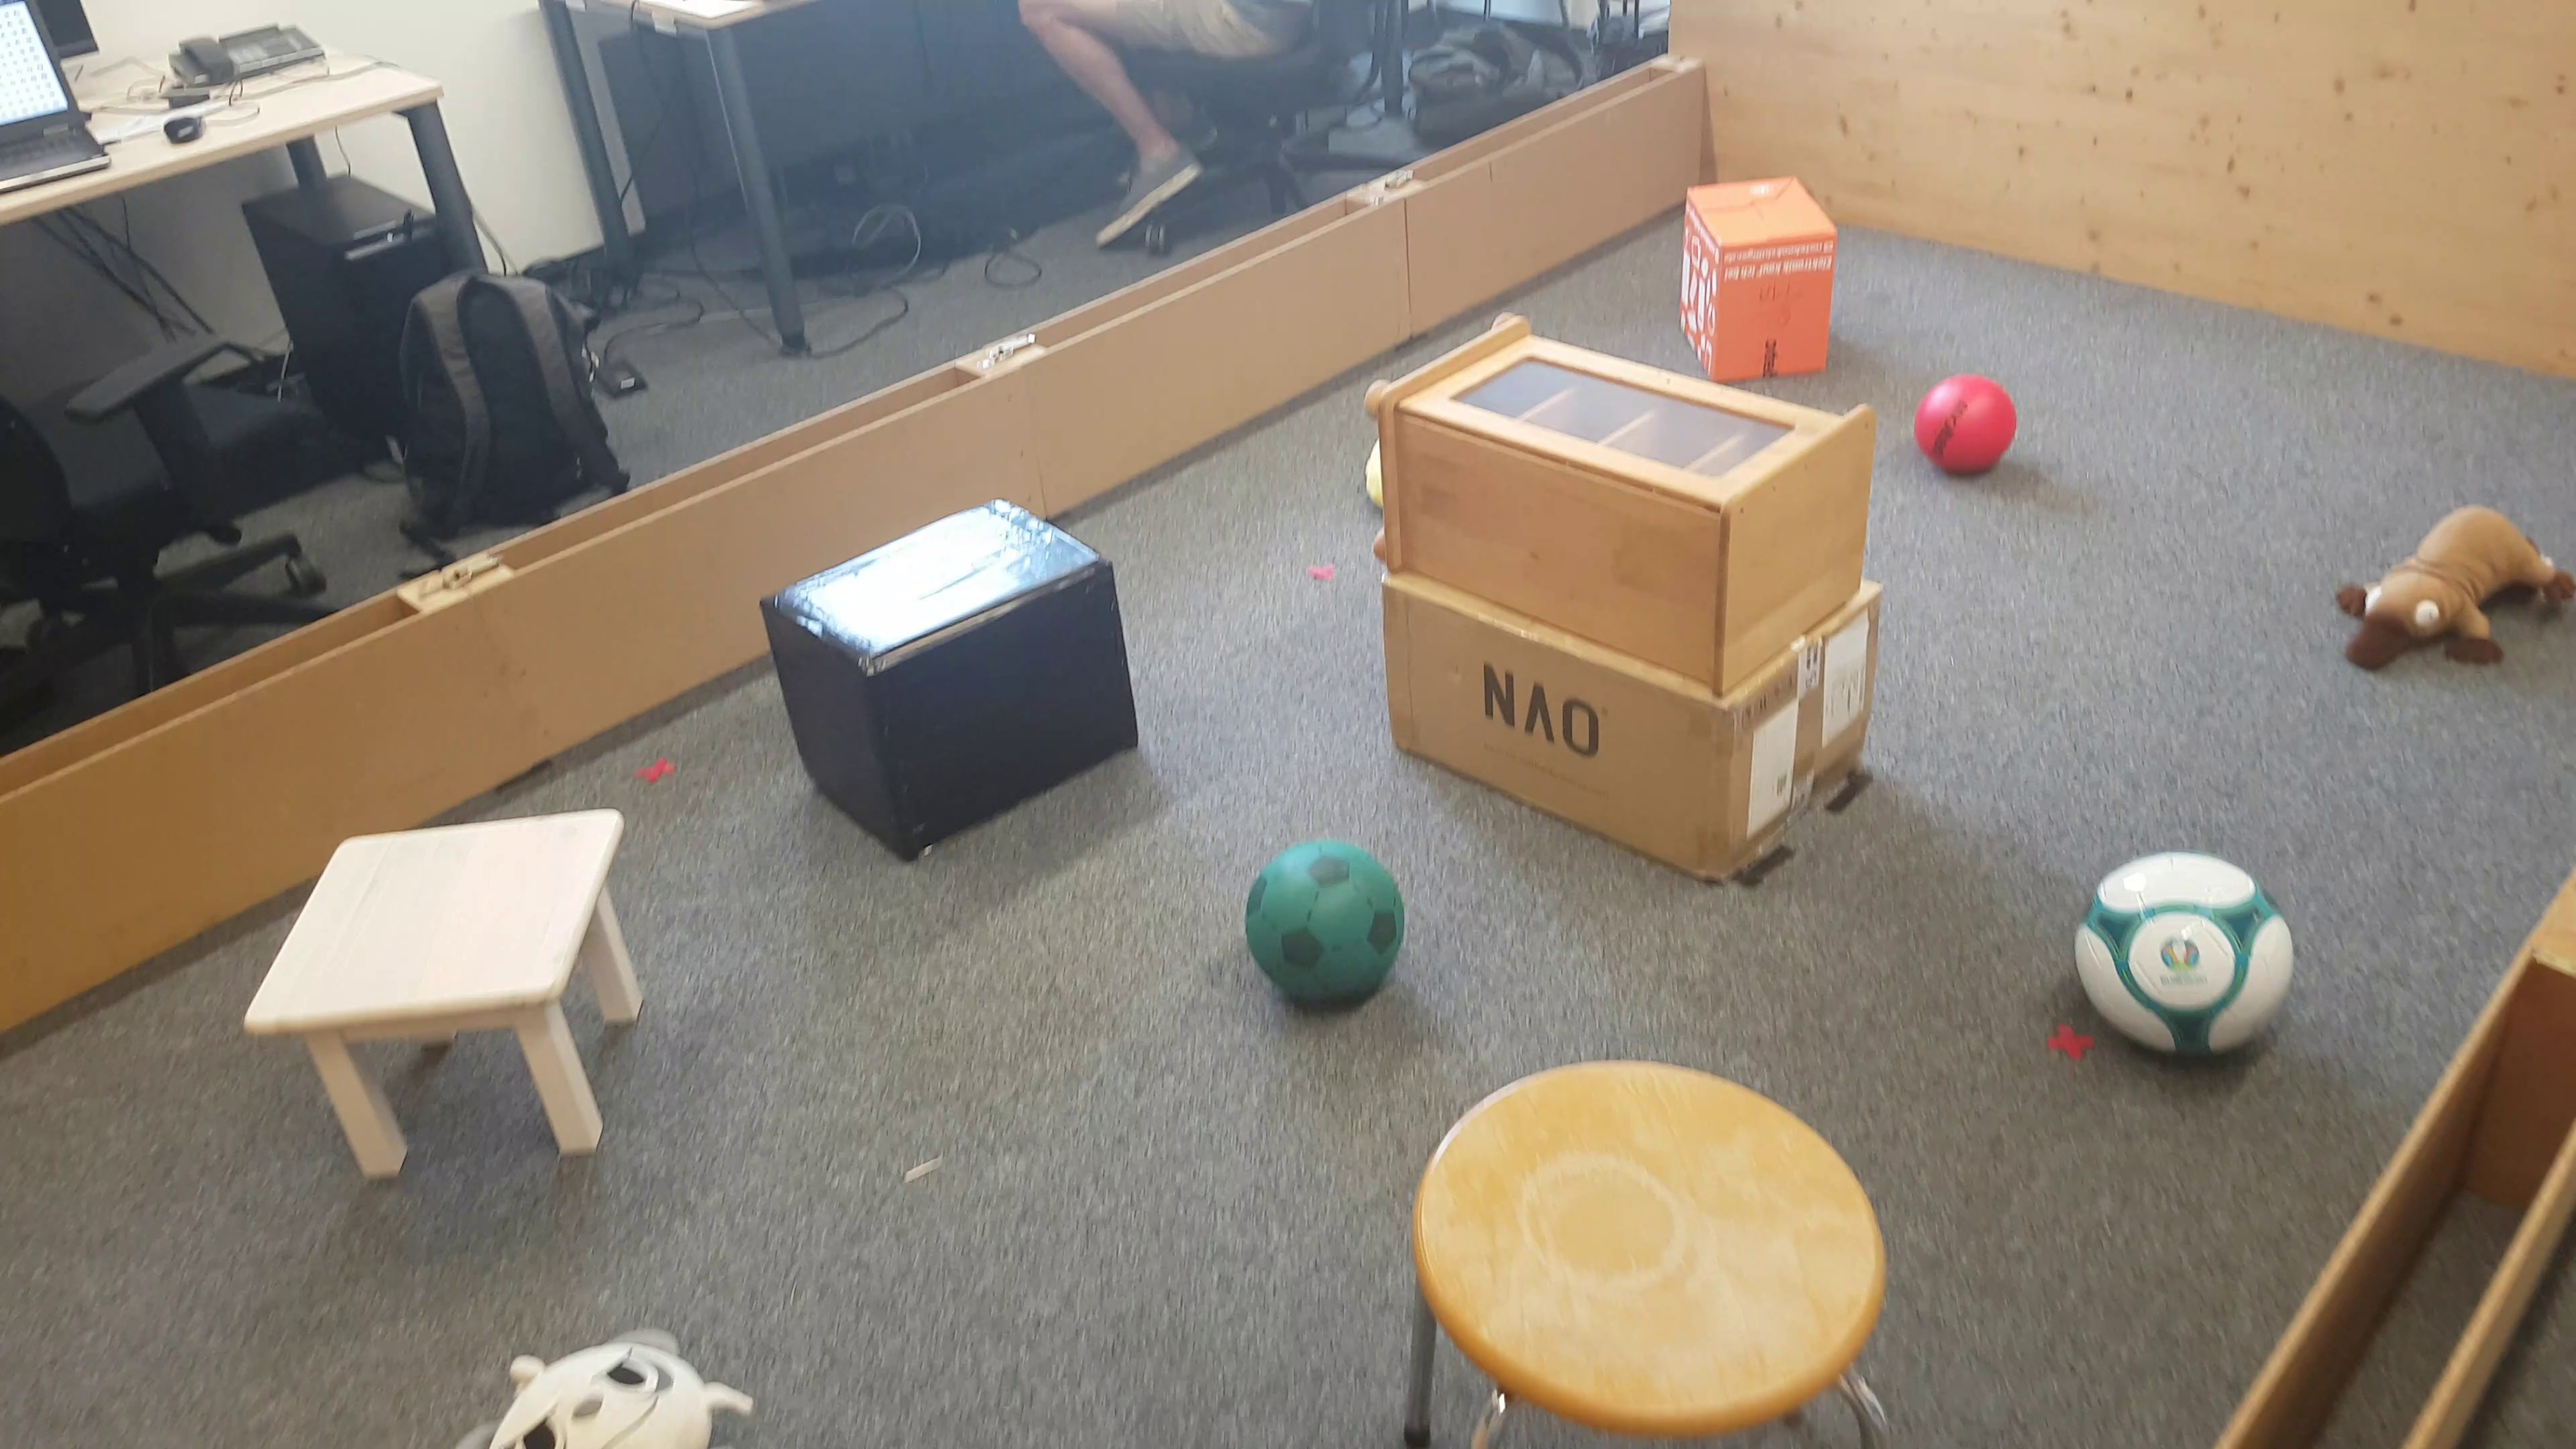grasp: (2323, 497, 2576, 685), (453, 1322, 763, 1449)
kick: (2070, 849, 2293, 1074), (1240, 839, 1410, 1028), (1918, 373, 2020, 478)
push: (759, 499, 1146, 856), (1668, 172, 1840, 386)
